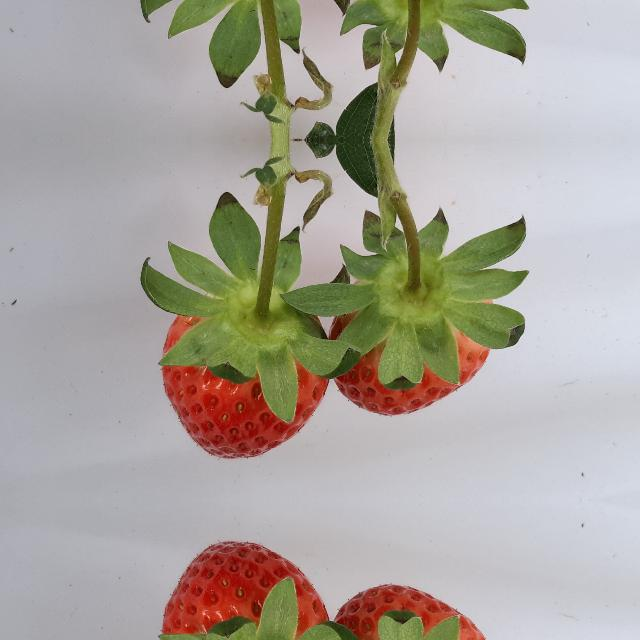Health_100: (329, 247, 491, 419), (160, 315, 330, 459), (160, 541, 330, 640), (329, 581, 491, 640)
